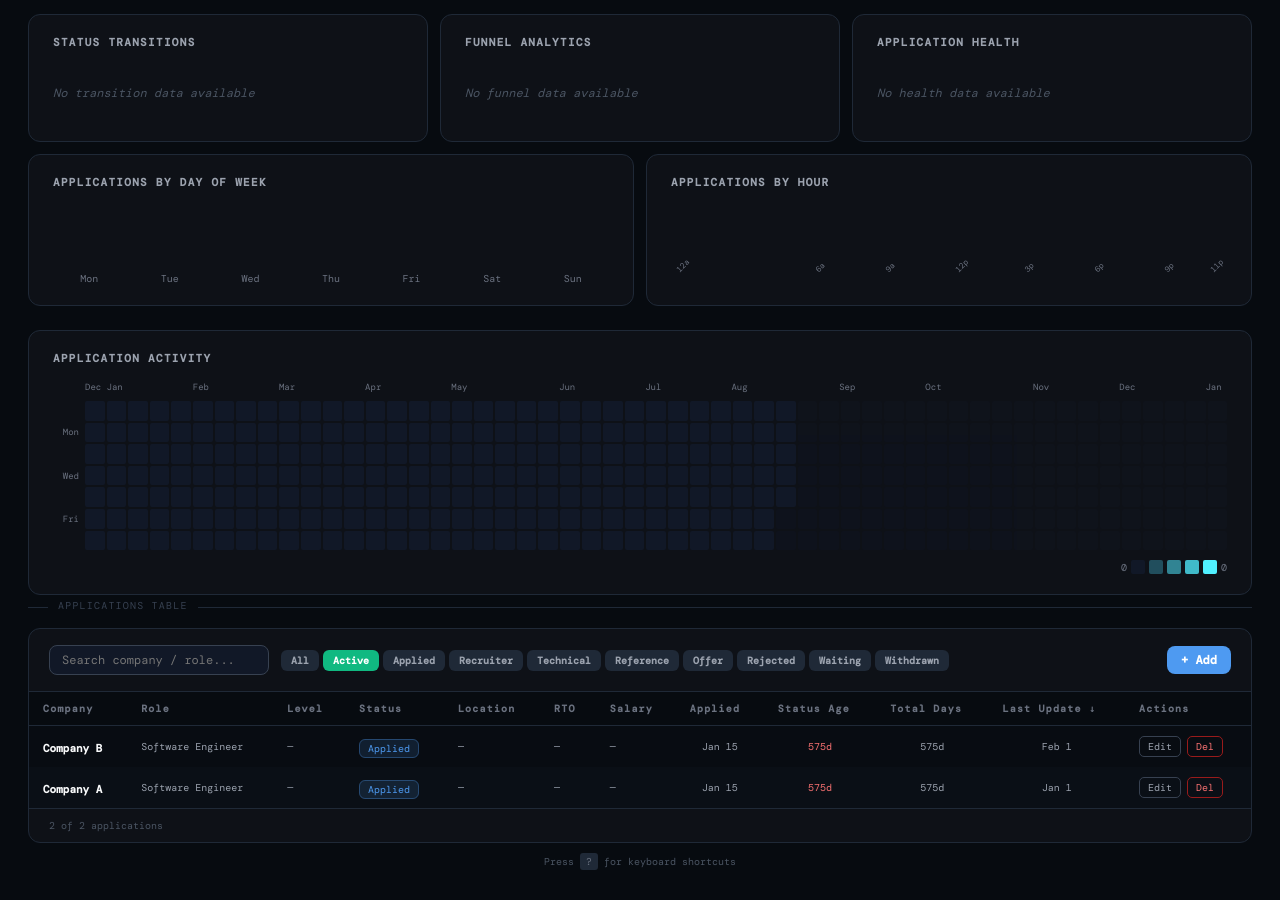
it: JobTracker (Dashboard) › Sort order after edit › should correctly update table when backend returns updated data after save
(page scrolled)
Expected: the table is shown, [29,692,1251,808]
Expected: the text "Company B" is shown, [43,741,102,755]
Edit Company A
Click the 2nd button "Edit" at (1160, 788), box [1139,777,1181,798]
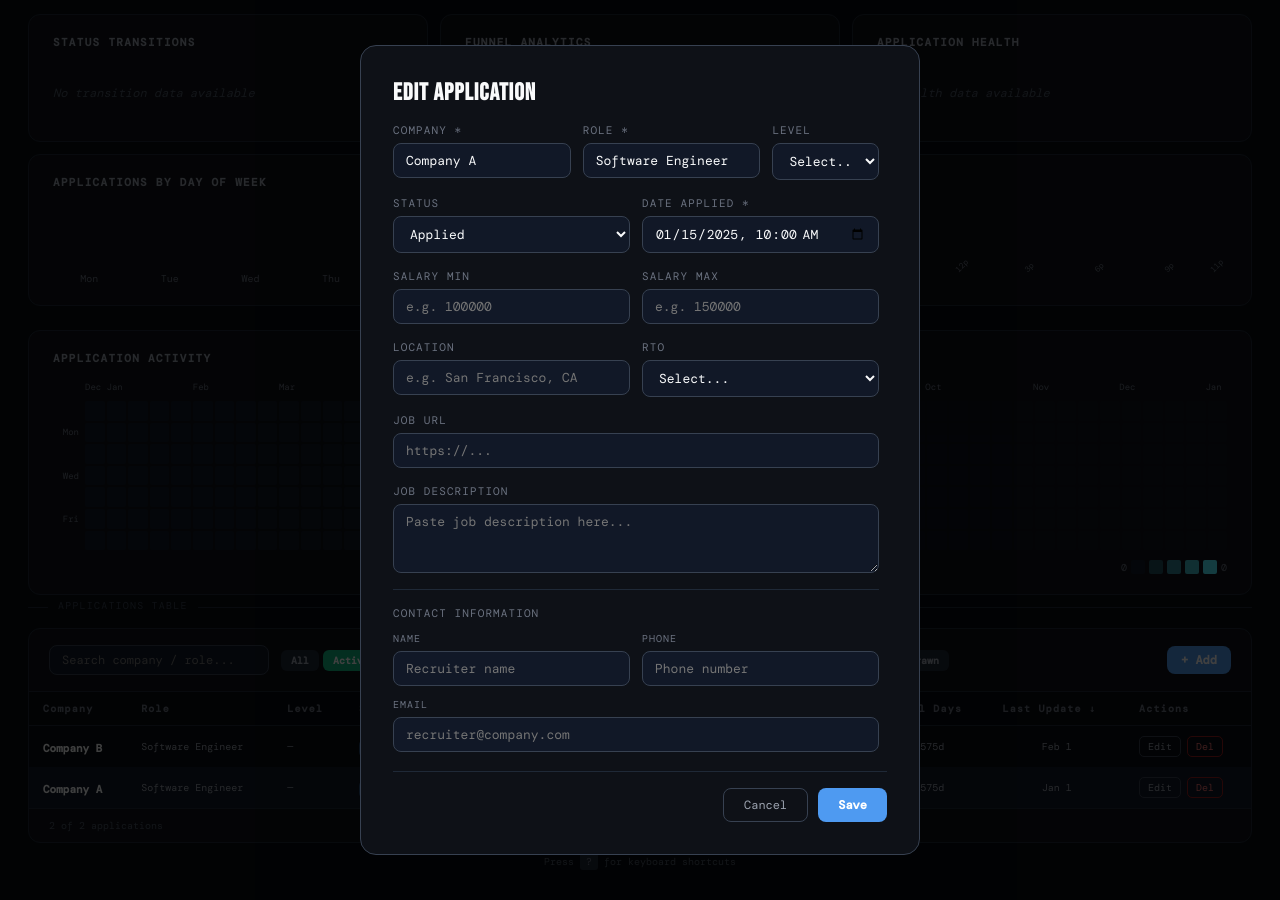
Expected: the heading "Edit Application" is shown, [393,78,536,107]
Click the button "Save" at (853, 805), box [818,788,887,822]
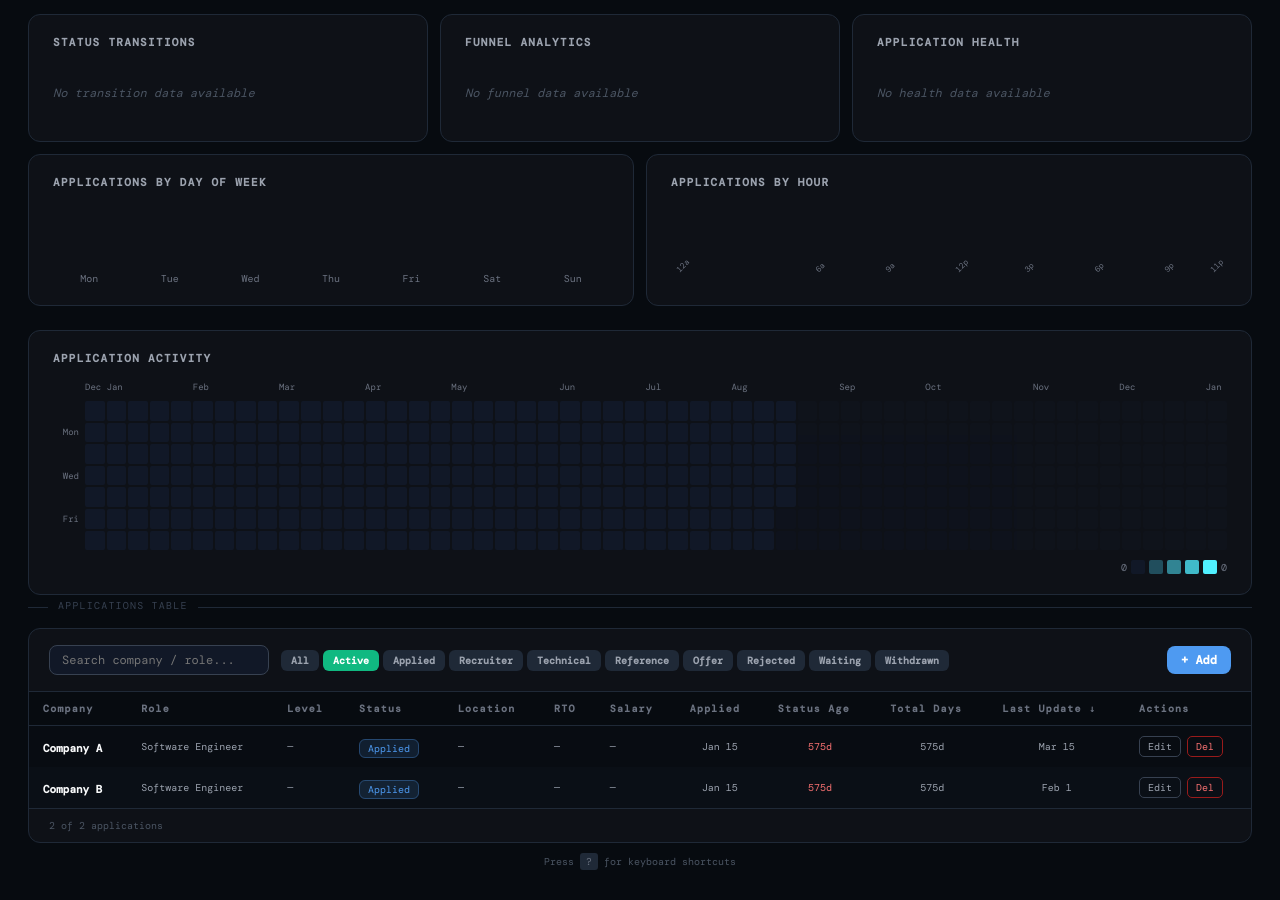
Expected: the text "Company A" is shown, [43,741,102,755]
Expected: the heading "Edit Application" is gone
